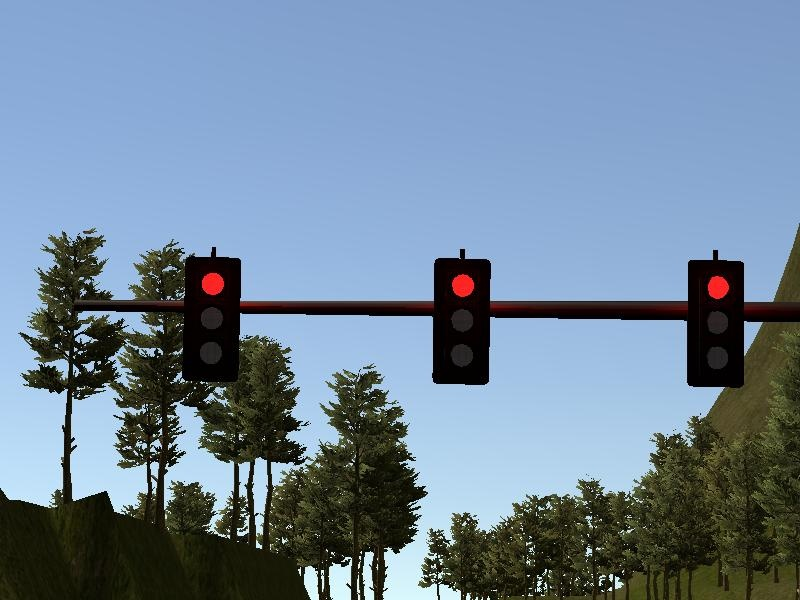Red: (684, 257, 748, 391), (431, 255, 493, 387), (182, 255, 242, 385)
